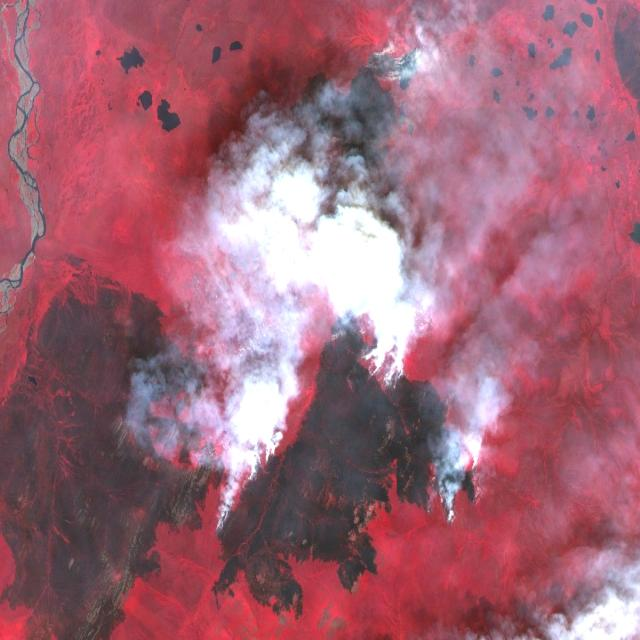fire: (209, 270, 484, 547), (350, 32, 425, 149)
